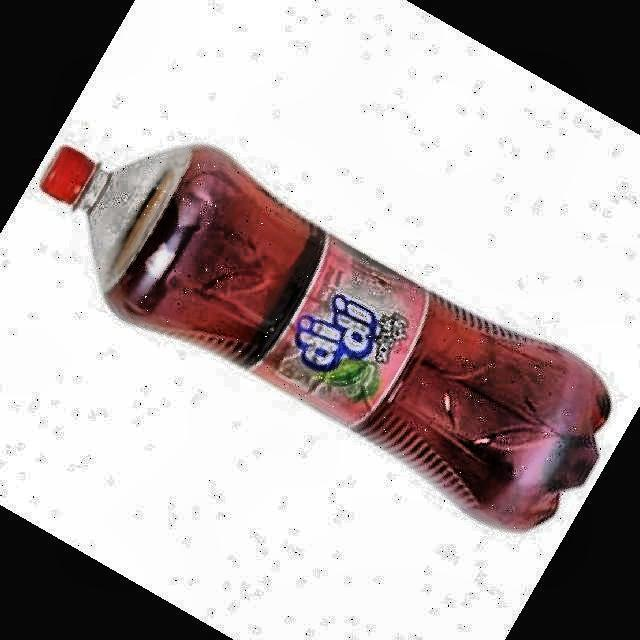plastic: (41, 146, 611, 529)
